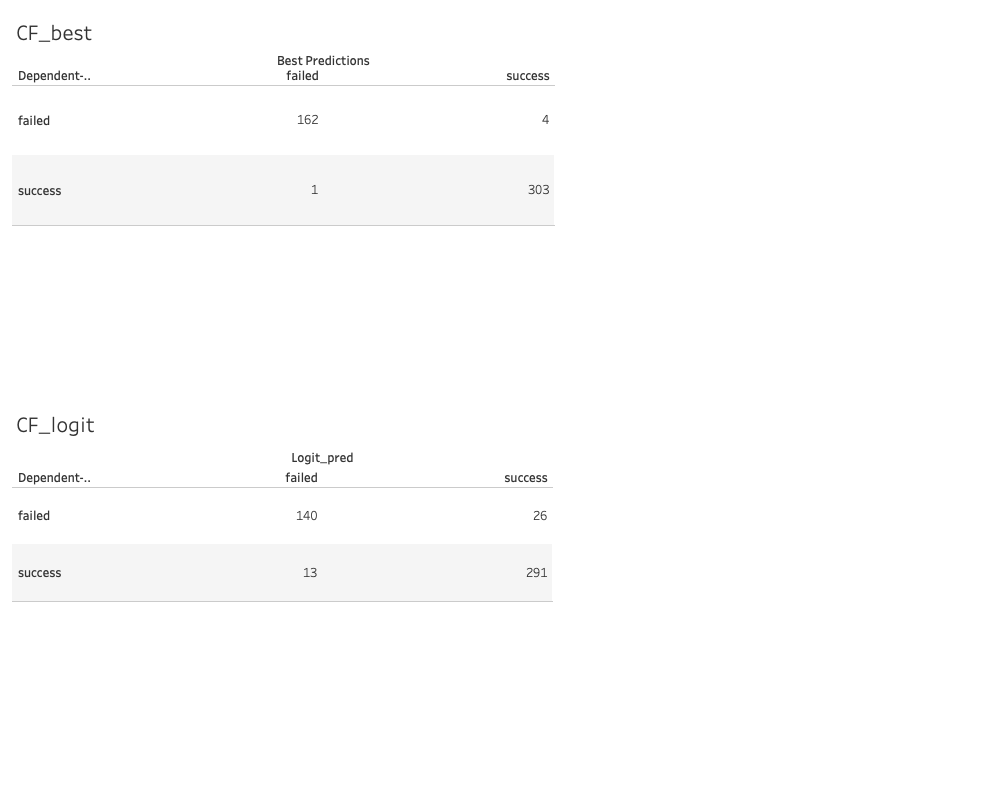

Layout of this report page (visuals, bound fields, positions):
{"tool":"tableau","page":{"name":"CF","canvas":[1000,800],"ordinal":0},"visuals":[{"type":"worksheet","title":"CF_best","mark":"Automatic","rows":["Dependent-Company Status"],"cols":["BestPredictions"],"box":[8,8,984,392]},{"type":"worksheet","title":"CF_logit","mark":"Automatic","rows":["Dependent-Company Status"],"cols":["Calculation_136585781397684224"],"box":[8,400,984,392]}]}

Visuals, with their boxes in screenshot pixels (x1, y1, x2, y2), scaled from the page's 1000x800 canvas onto the 1000x800 screenshot:
"CF_best" worksheet: <bbox>8, 8, 992, 400</bbox>
"CF_logit" worksheet: <bbox>8, 400, 992, 792</bbox>
